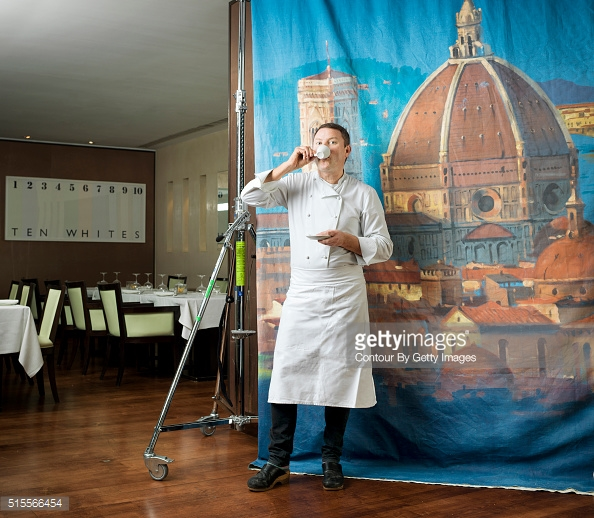em pe: (233, 101, 381, 510)
